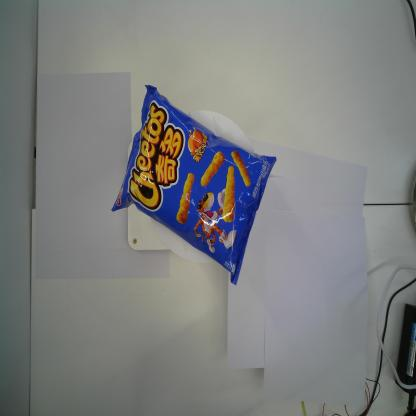Puffed Food: (107, 81, 280, 288)
